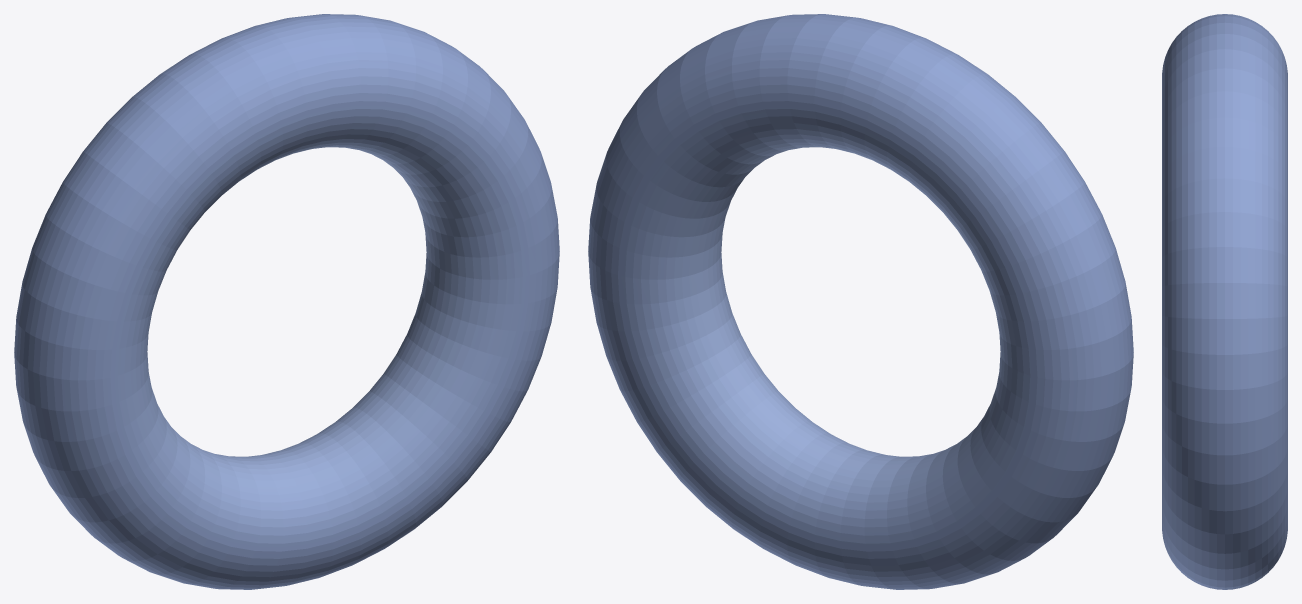
3 views of the same model, side by side, from view 1: azimuth 30°, elevation 25°; view 2: azimuth 150°, elevation 25°; view 3: azimuth 270°, elevation 25° (orthographic). The views are drawn at different scales.
Visible parts, largest first — view 1: world; view 2: world; view 3: world.
Part boxes in pixels (left/top/right/bottom): world: left=14, top=14, right=559, bottom=589; world: left=588, top=14, right=1133, bottom=589; world: left=1162, top=14, right=1287, bottom=589.
Size of the model in its own units: 21.33 by 21.29 by 4.66.
